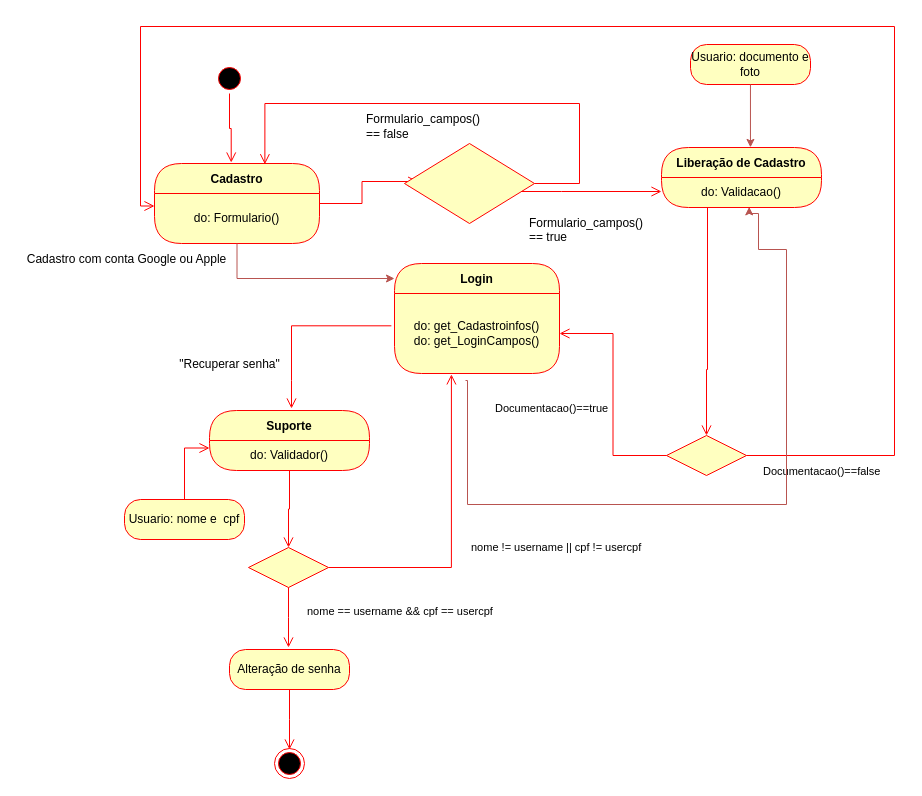
Some shapes in this 922 by 796 pixel diagram are drawn without their labels. Each missing label, with the centre of its shape:
Campos preenchidos?: point (469, 183)
Validado?: point (706, 455)
Valido?: point (288, 567)
